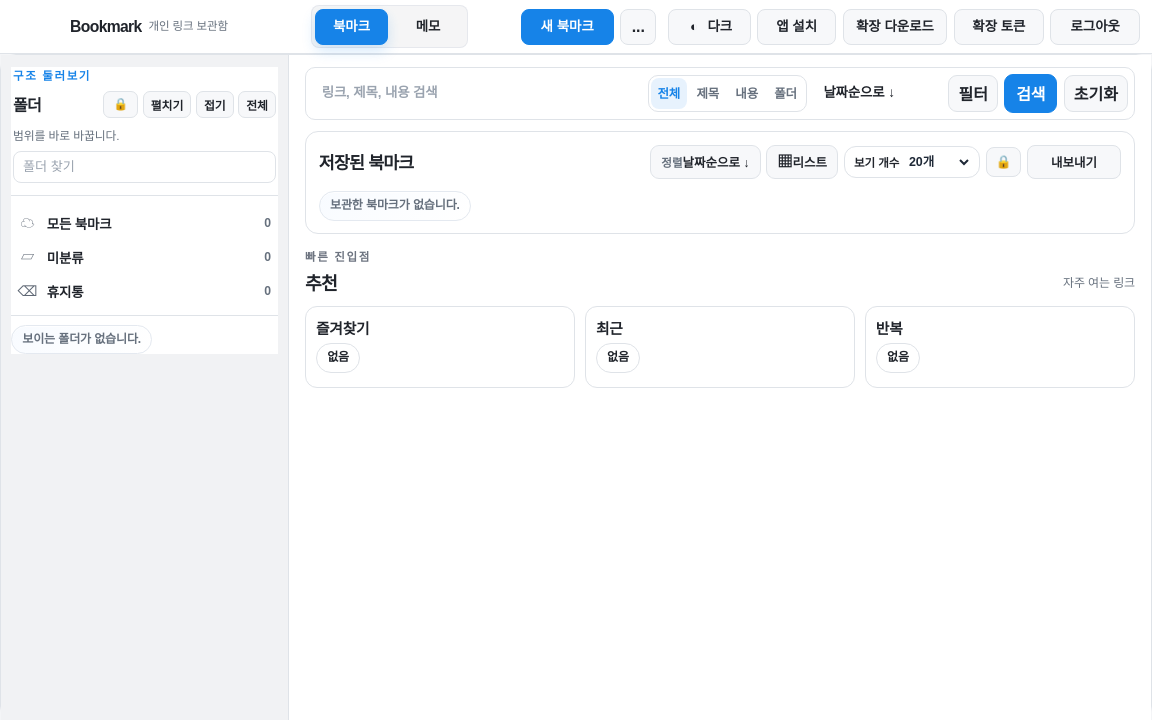
Test: bookmark dashboard › shows extension token management for the authenticated user account
Click the button with aria-label "확장 토큰 관리". click: (999, 26)
box: [954,8,1044,44]
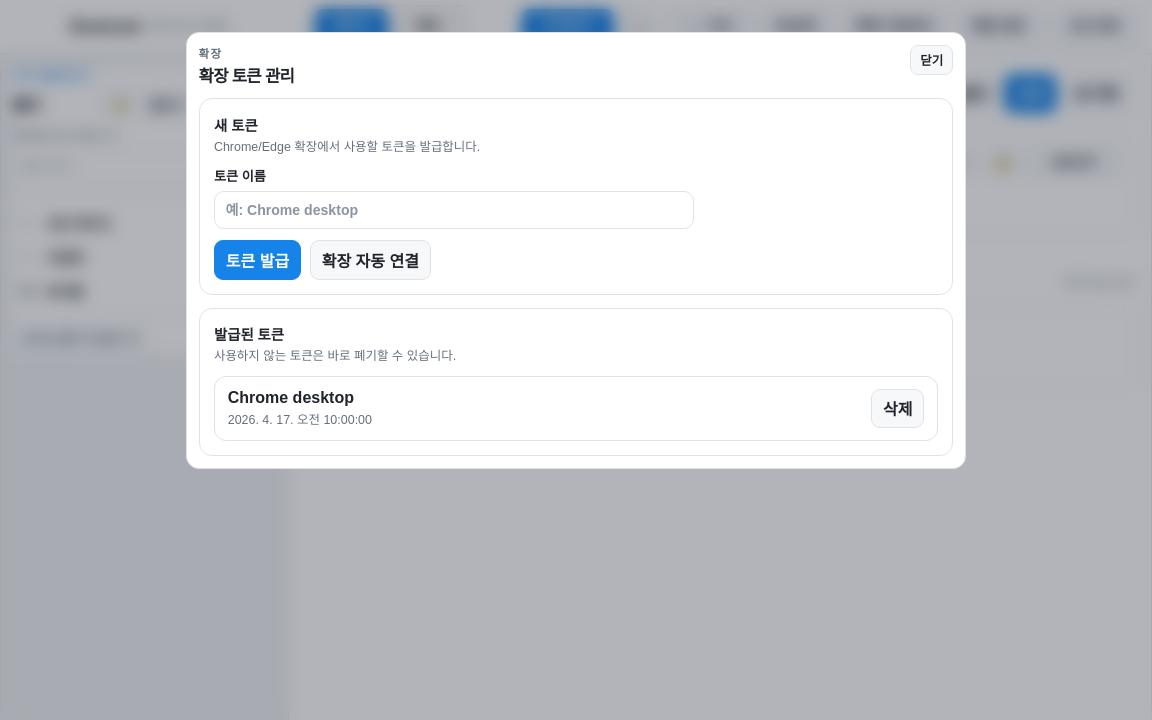
Now the text "Chrome desktop" is shown, box [228,389,372,407]
